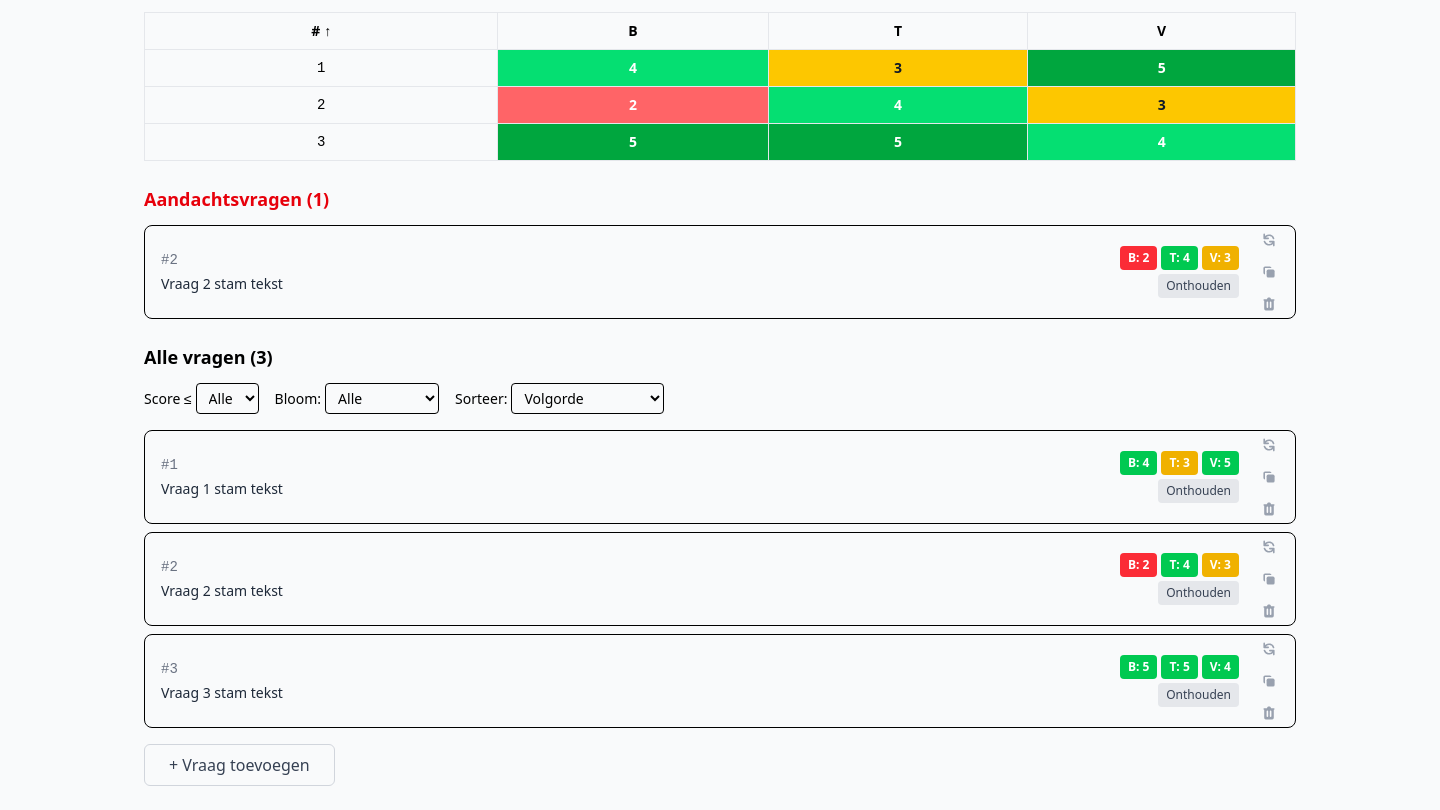
ExamDashboard › TD.6: clicking add shows inline form
(page scrolled)
Click the button "+ Vraag toevoegen". click: (239, 765)
box: [144,744,335,786]
(page scrolled)
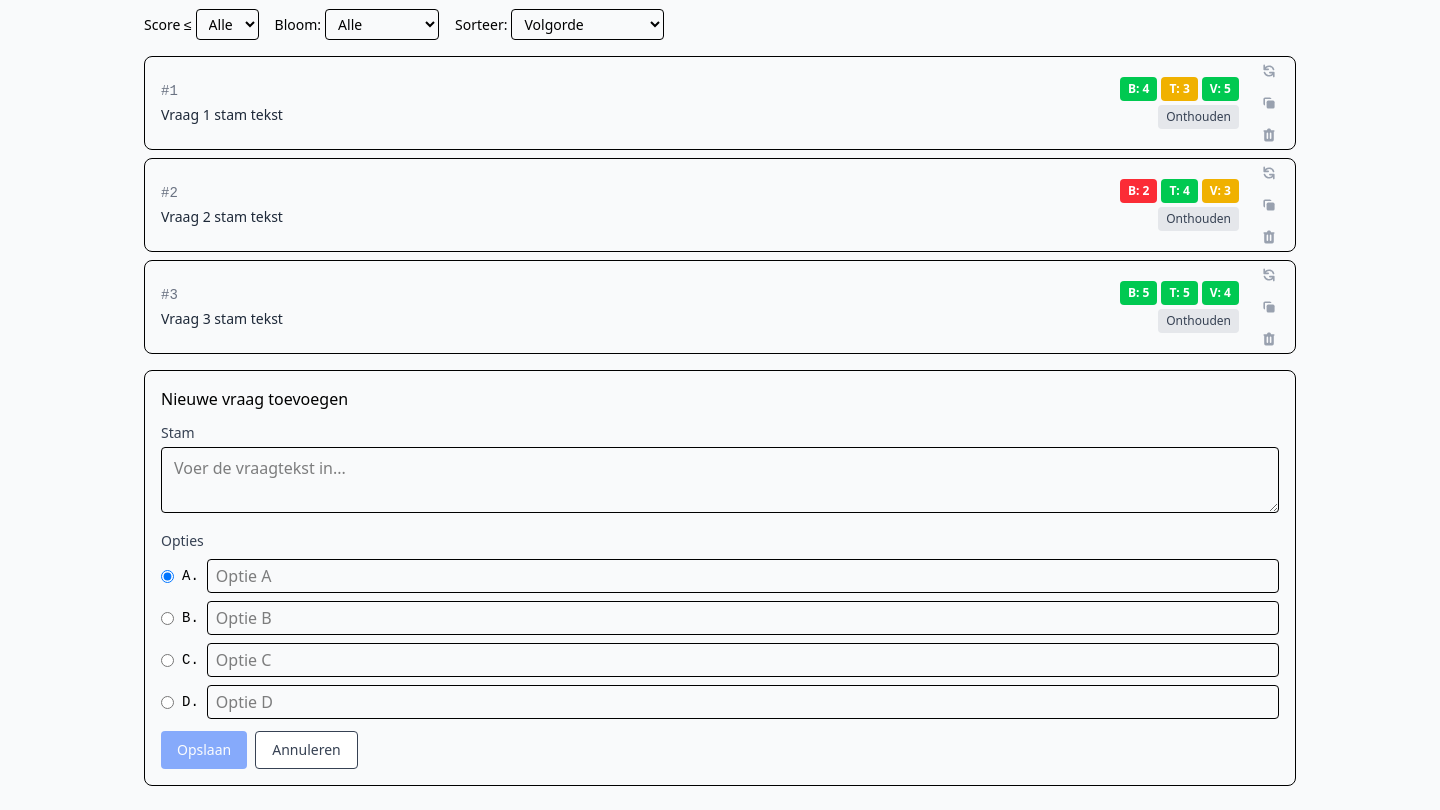
Expected: the heading "Nieuwe vraag toevoegen" is shown, [161,388,348,410]
Expected: the text box with placeholder "Voer de vraagtekst in..." is shown, [161,447,1279,513]
Expected: the button "Annuleren" is shown, [255,731,358,769]
